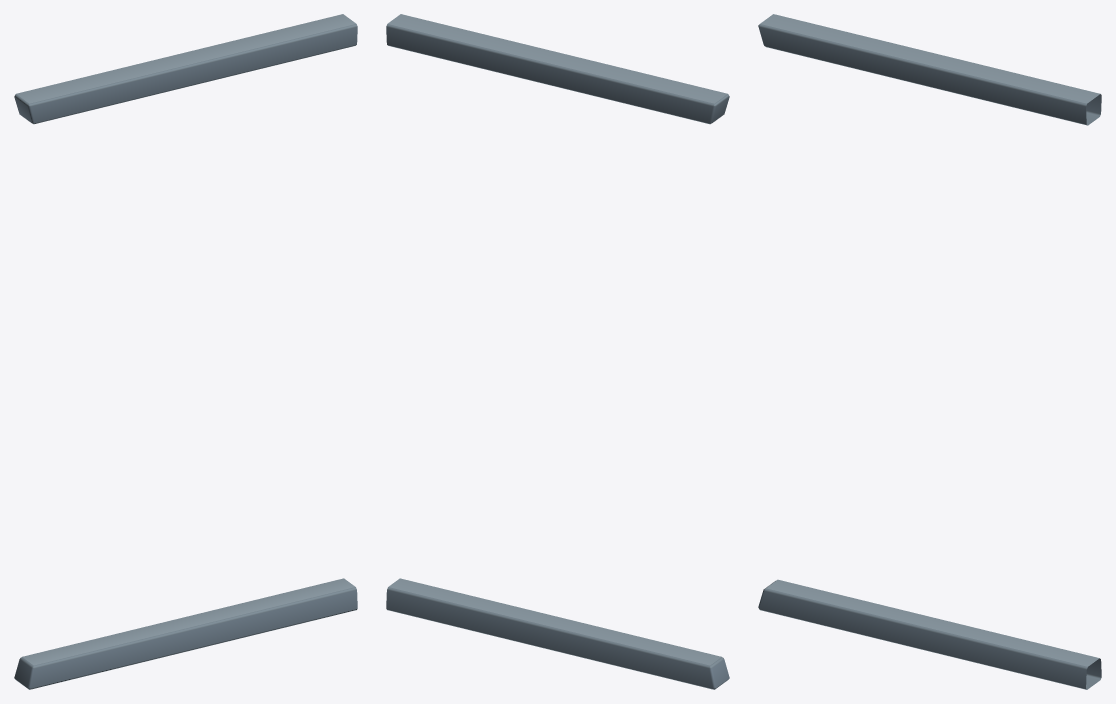
The model's file is streetlight_banner.glb.
3 views of the same model, side by side, from view 1: azimuth 30°, elevation 25°; view 2: azimuth 150°, elevation 25°; view 3: azimuth 330°, elevation 25° (orthographic).
Parts seen in each view (by area): view 1: streetlight_banner; view 2: streetlight_banner; view 3: streetlight_banner.
Part boxes in pixels (left/top/right/bottom): streetlight_banner: left=14, top=14, right=357, bottom=689; streetlight_banner: left=386, top=14, right=729, bottom=689; streetlight_banner: left=758, top=14, right=1101, bottom=689.
Bounding box in the file's own units: 2.81 × 4.79 × 0.2341.
Materials: 1 (1 with a texture image).
